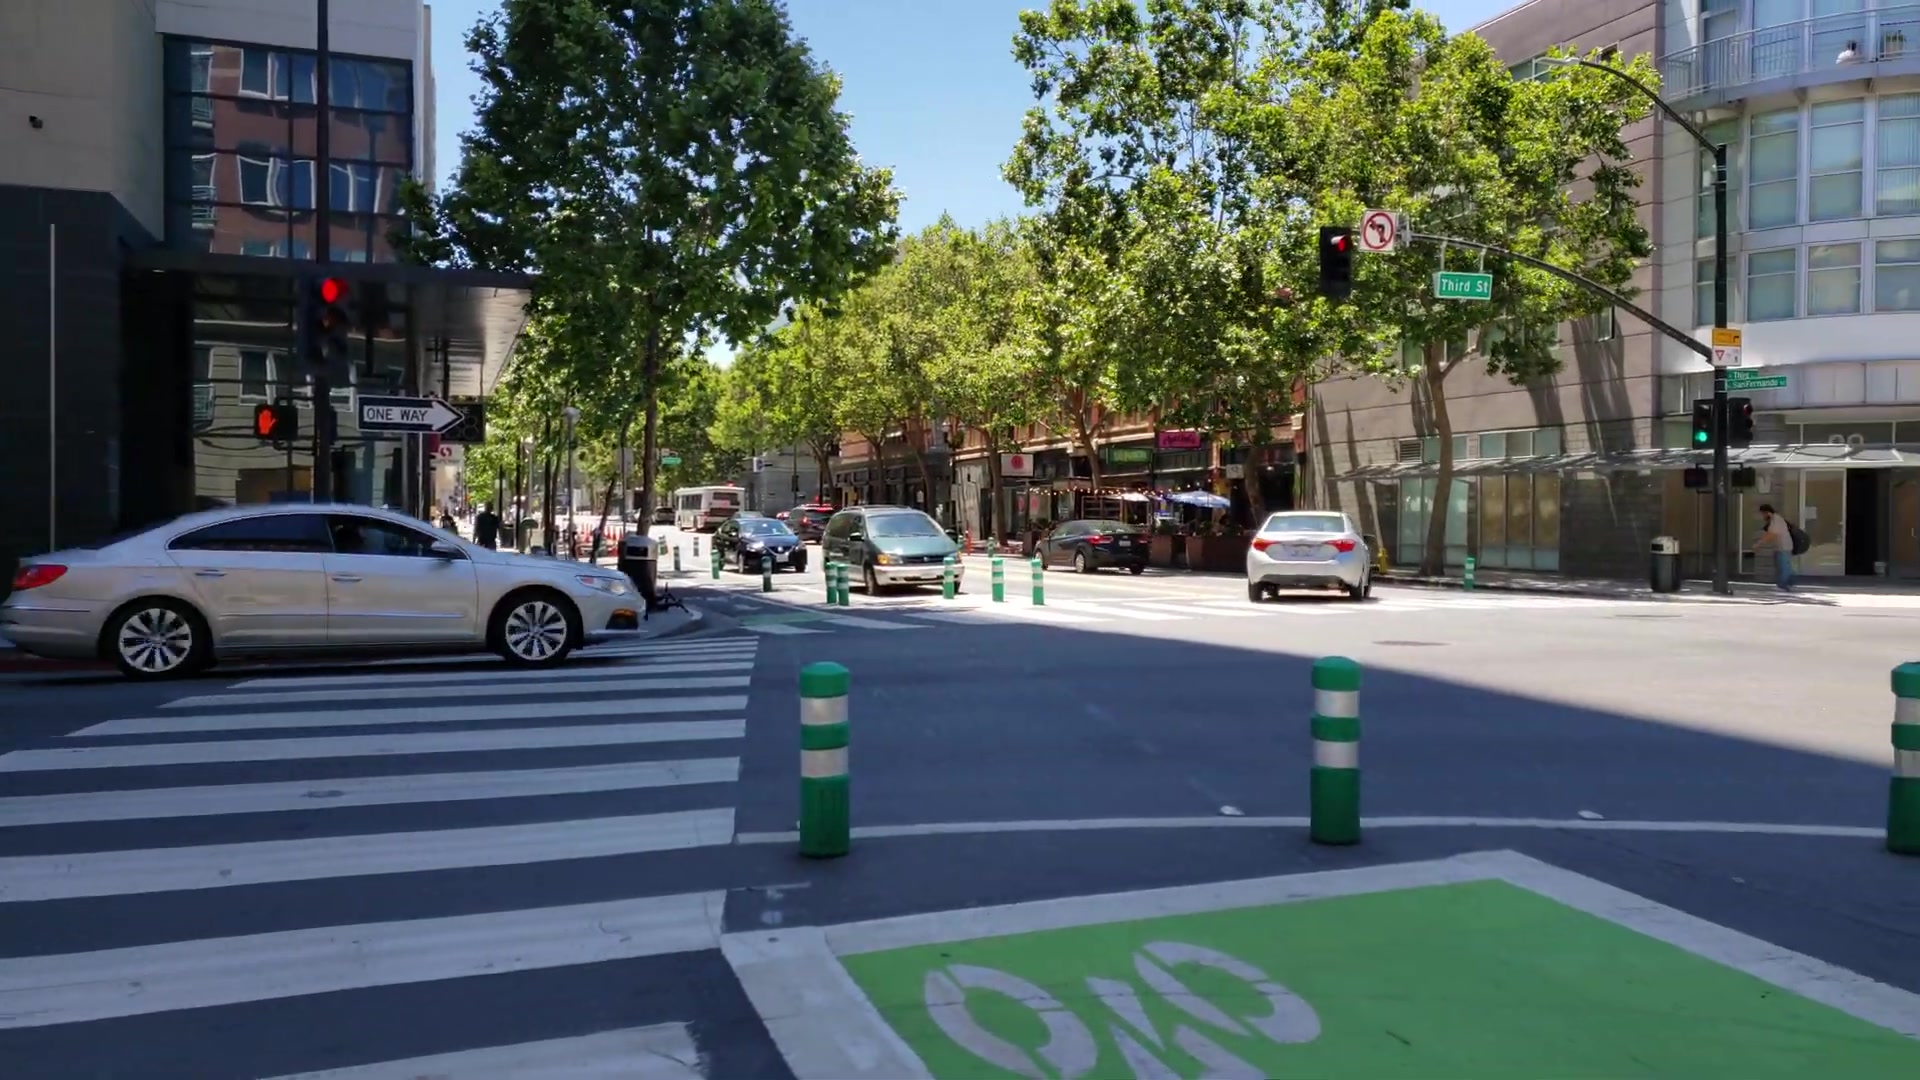vehicle: (822, 504, 963, 597), (1249, 512, 1371, 597), (1036, 520, 1149, 578), (711, 521, 808, 575)
